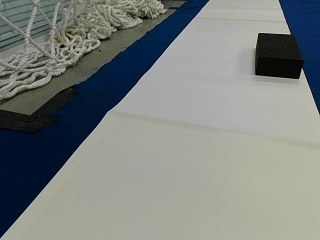block: (255, 32, 302, 78)
